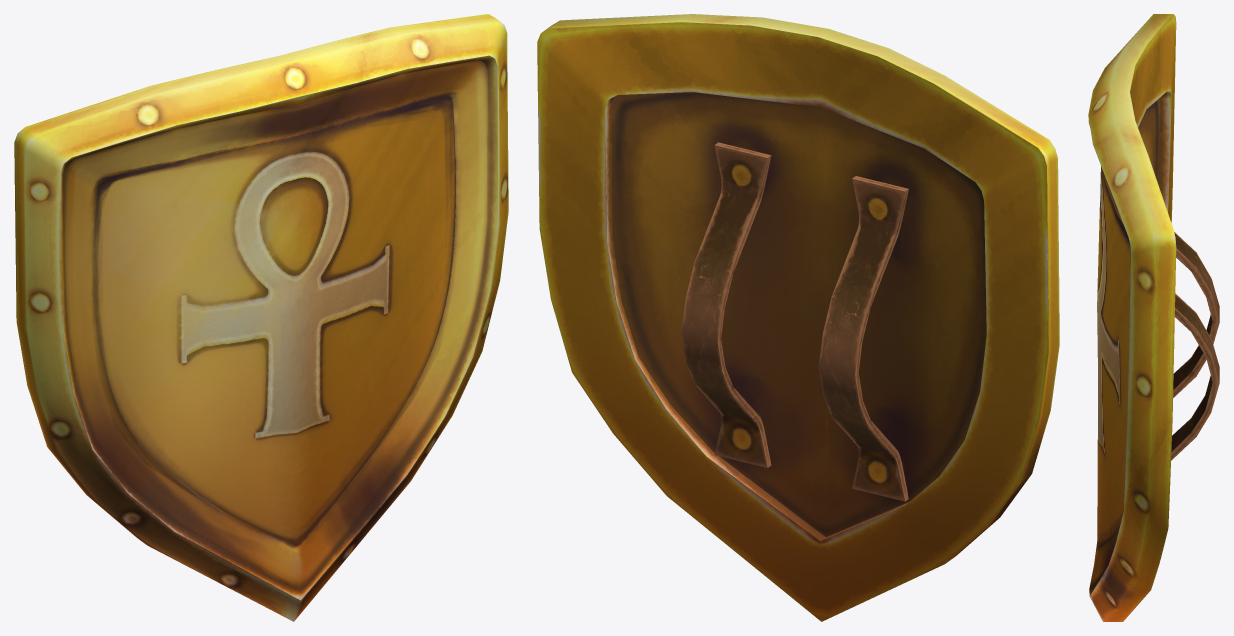
File: 055_a_shiny_shield.fbx
3 renders of one model, left to right at view 1: azimuth 30°, elevation 25°; view 2: azimuth 150°, elevation 25°; view 3: azimuth 270°, elevation 25°, orthographic. The views are drawn at different scales.
Parts seen in each view (by area): view 1: 055_a_shiny_shield; view 2: 055_a_shiny_shield; view 3: 055_a_shiny_shield.
Part boxes in pixels (x1=…): 055_a_shiny_shield: x1=14, y1=14, x2=508, y2=621; 055_a_shiny_shield: x1=537, y1=14, x2=1059, y2=621; 055_a_shiny_shield: x1=1088, y1=14, x2=1219, y2=621.
Bounding box in the file's own units: 63.24 × 69.66 × 15.64.
